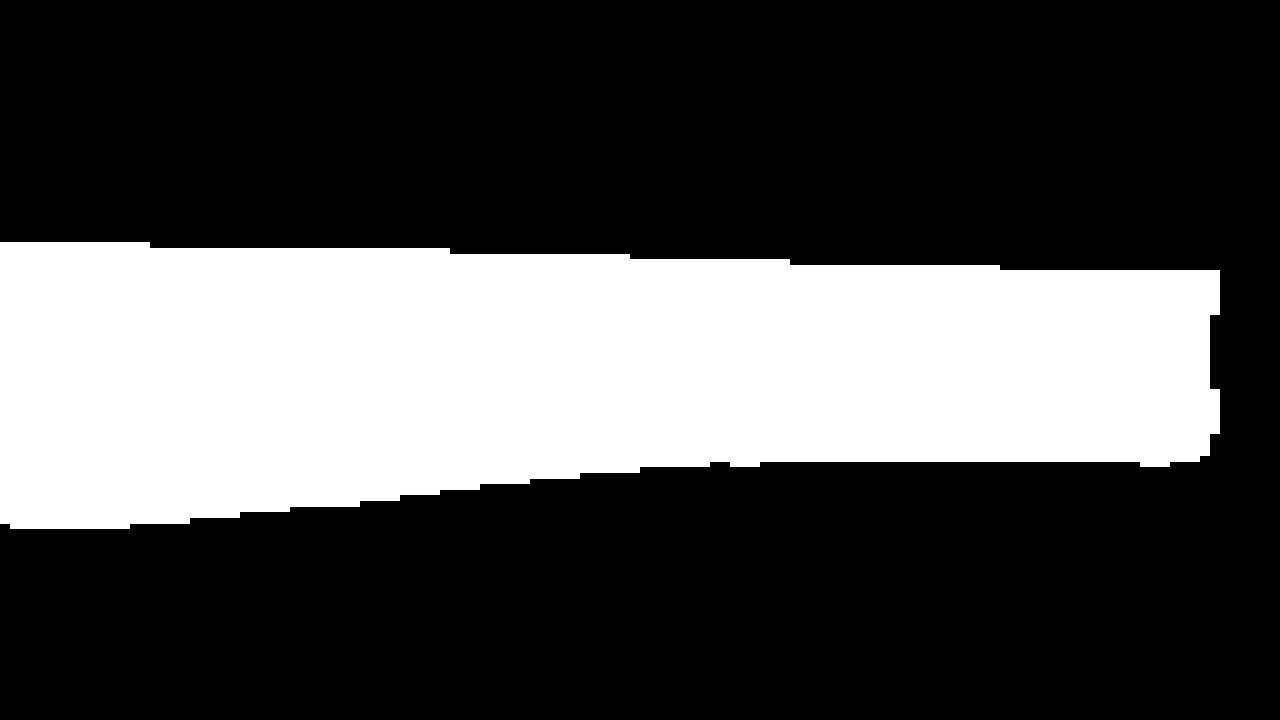Turbine: (2, 233, 1224, 534)
